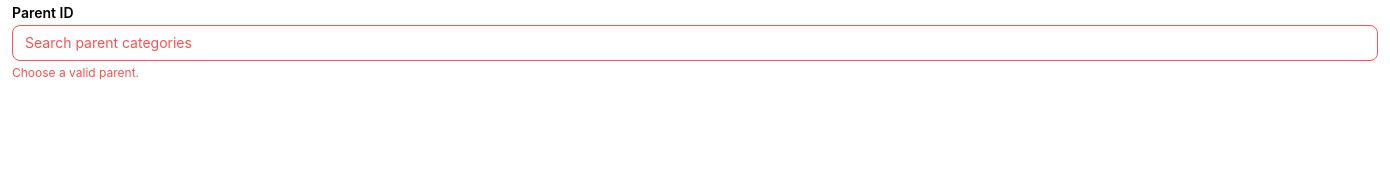
CategoryParentPicker › renders an associated label, error, root option, and remote options
Check: the text "Choose a valid parent." is shown, box [12,65,139,80]
Click the dropdown labelled "Parent ID".
click(695, 43)  # box [12,25,1378,61]
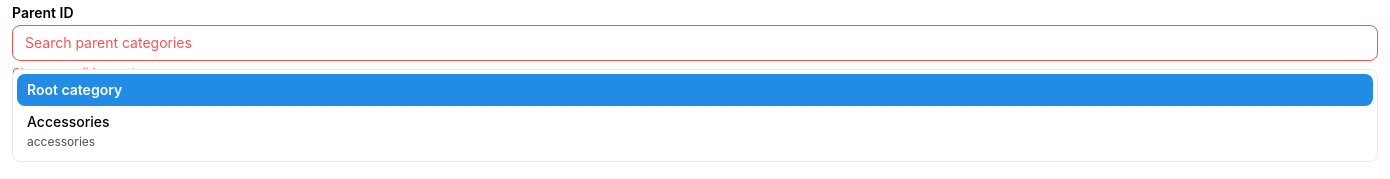
Check: the option "Root category" is shown, box [17,74,1373,106]
Check: the option "Accessories accessories" is shown, box [27,113,110,149]
